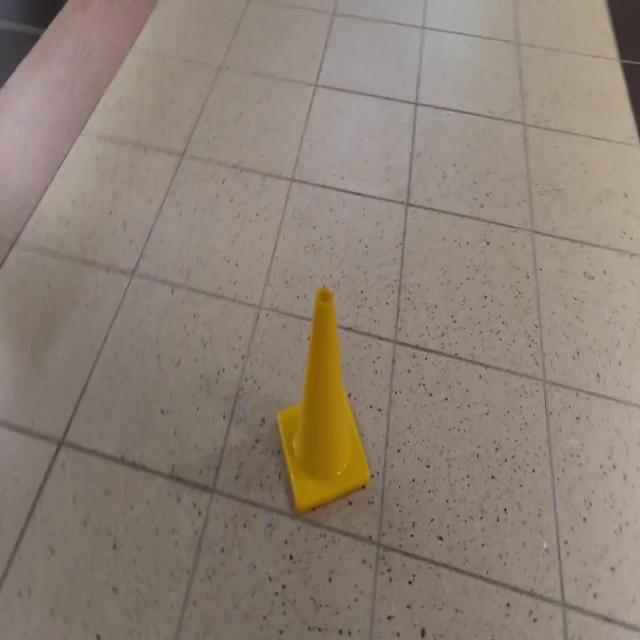frc_cone: (276, 286, 371, 516)
